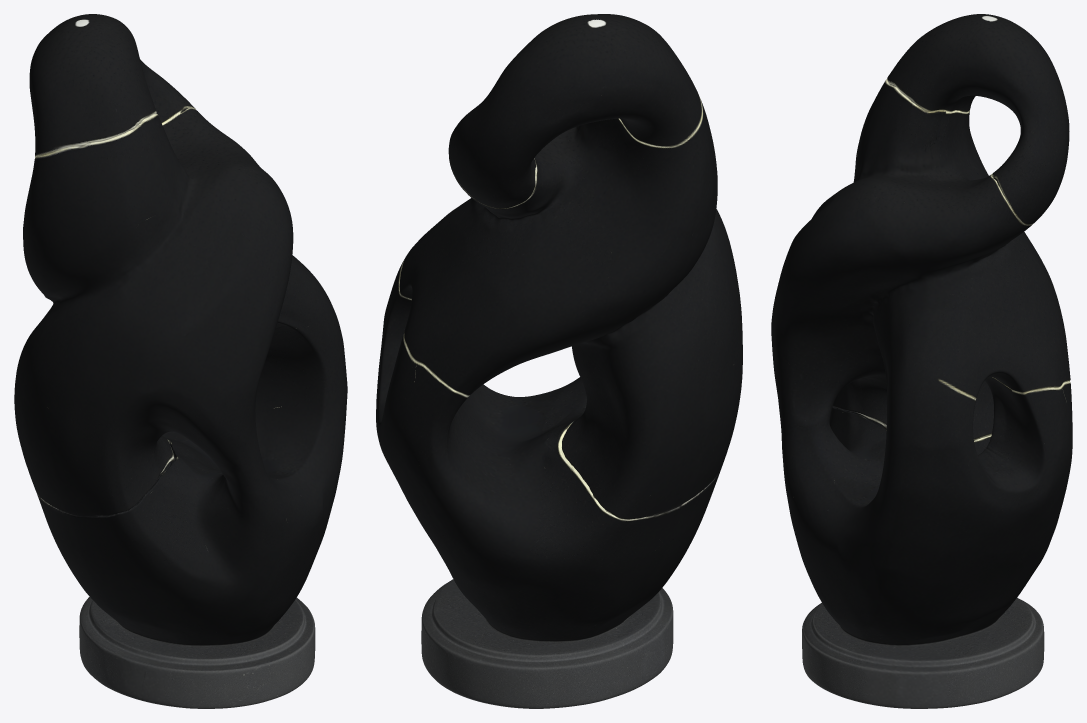
Rendered from Meshy_AI_Ebon_Flow_0912182439_texture.obj.
3 views of the same model, side by side, from view 1: azimuth 30°, elevation 25°; view 2: azimuth 150°, elevation 25°; view 3: azimuth 270°, elevation 25° (orthographic). The views are drawn at different scales.
Parts seen in each view (by area): view 1: Meshy_AI_Ebon_Flow_0912182439_texture; view 2: Meshy_AI_Ebon_Flow_0912182439_texture; view 3: Meshy_AI_Ebon_Flow_0912182439_texture.
Part boxes in pixels (x1,y1,x2,y2): Meshy_AI_Ebon_Flow_0912182439_texture: (14, 14, 347, 708); Meshy_AI_Ebon_Flow_0912182439_texture: (376, 14, 742, 708); Meshy_AI_Ebon_Flow_0912182439_texture: (771, 14, 1072, 708).
Bounding box in the file's own units: 0.1283 × 0.254 × 0.114.
Materials: 1 (1 with a texture image).
